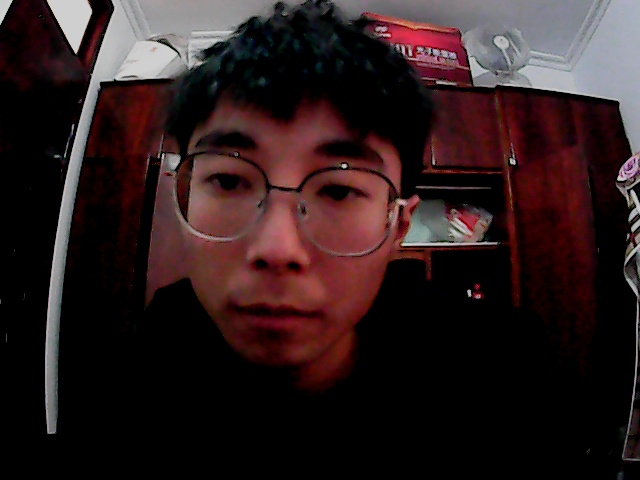face: (142, 2, 433, 378)
